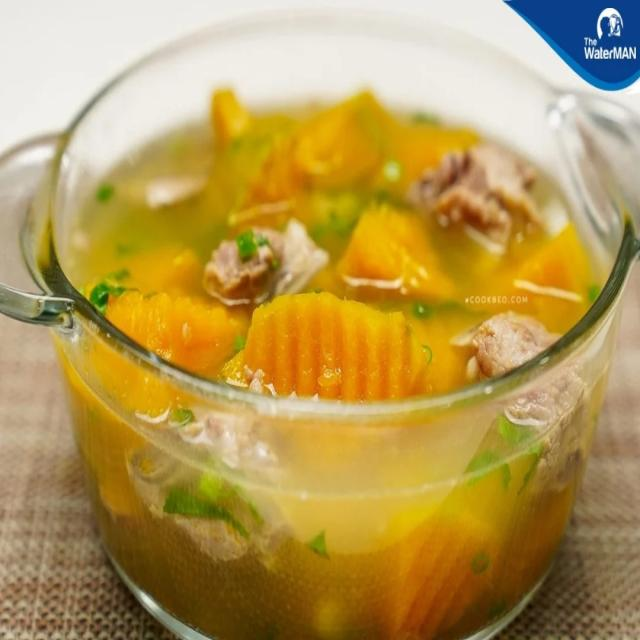canh bi do: (85, 91, 593, 401)
